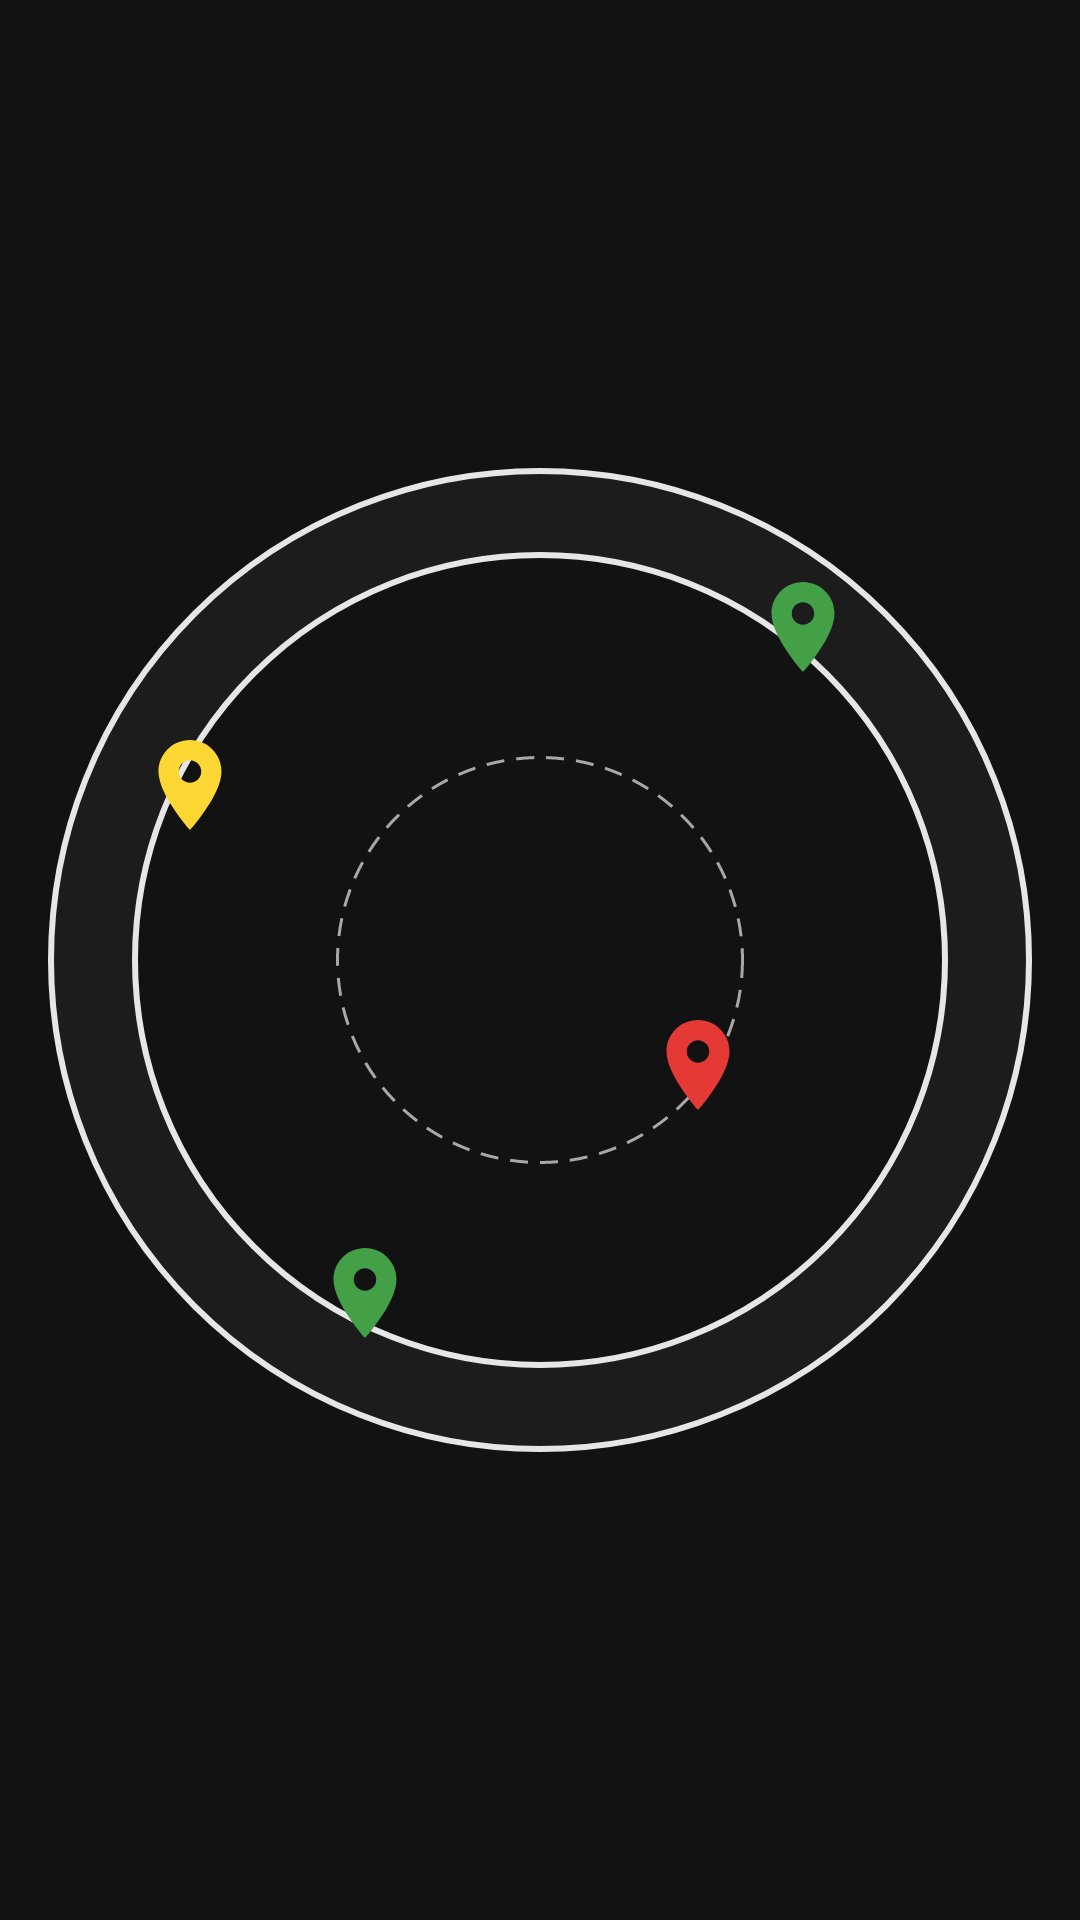

Named icons in this screenshot (1080×1920) and their centers, [x,y]:
Report pin: [803,627], [186,785], [700,1064], [365,1297]
